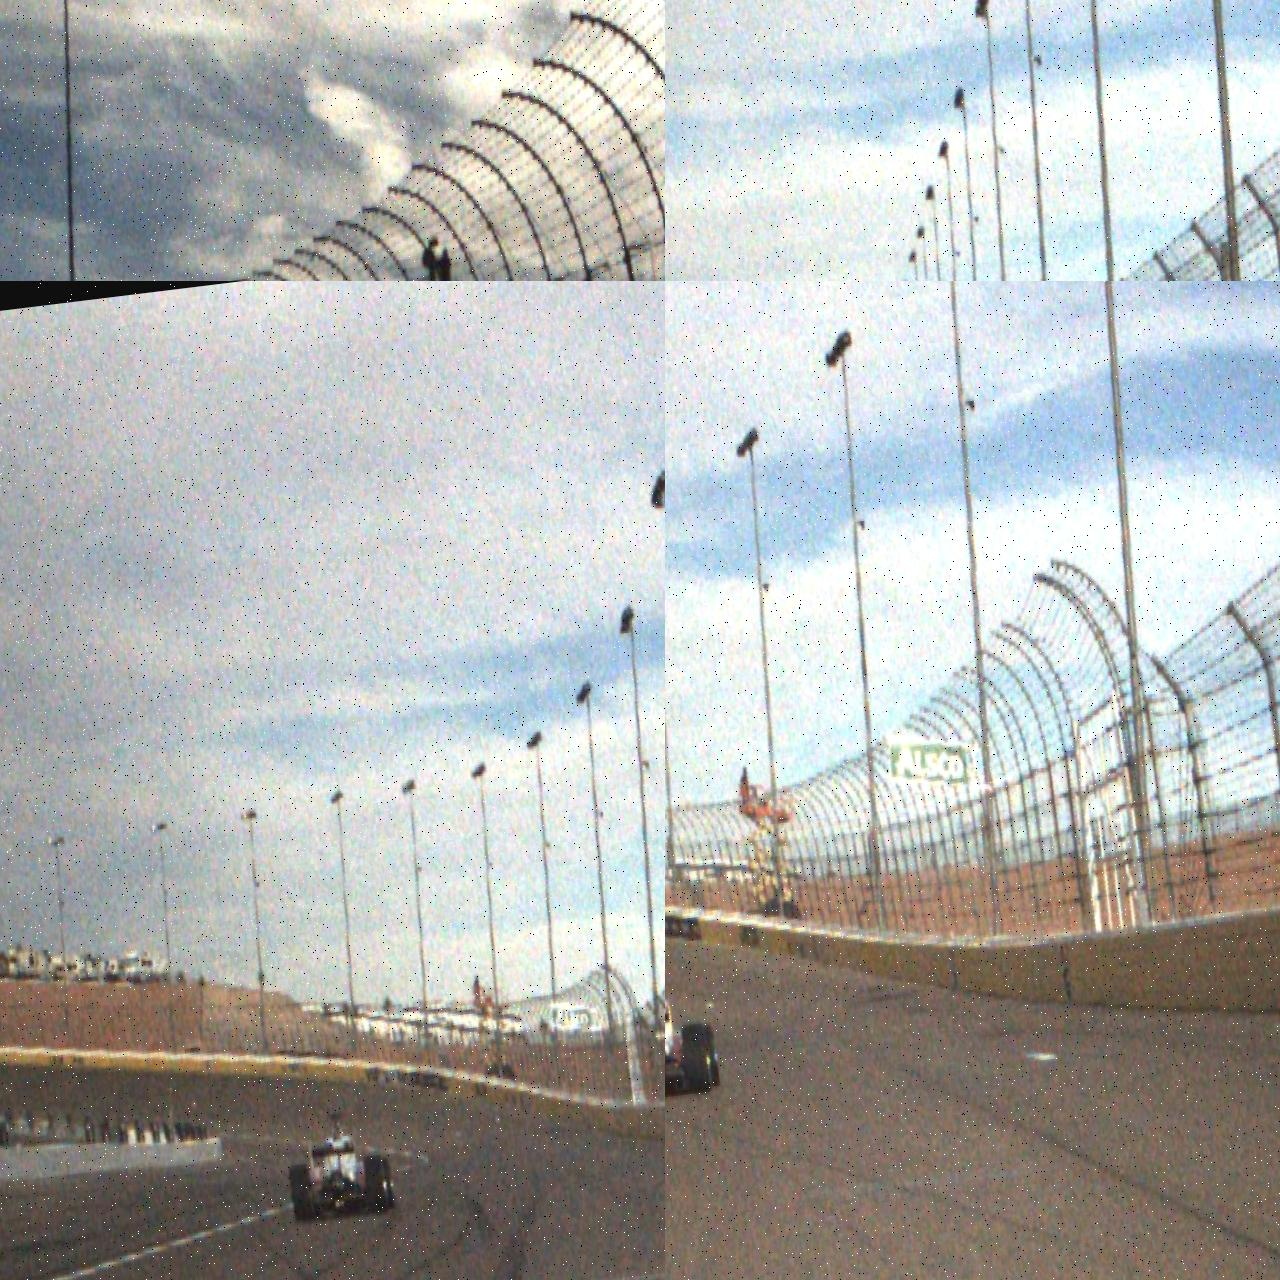AV: (281, 1105, 397, 1224), (665, 960, 722, 1107)
Wheel: (681, 1022, 713, 1095), (695, 1024, 722, 1089), (288, 1164, 316, 1223), (363, 1155, 389, 1214), (379, 1157, 397, 1208)
